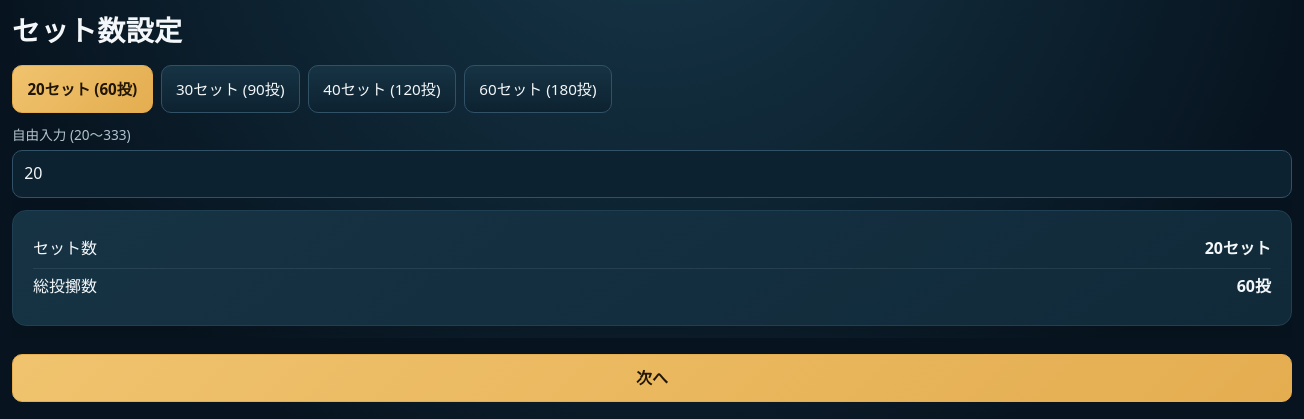
Test case: SetCountPage (トレーニング設定) › プリセットで総投擲数が更新される
What coordinates should you click on to do the following:
click the button "40セット (120投)"
I would click on:
 (382, 89)
Its box is [308,65,456,113].
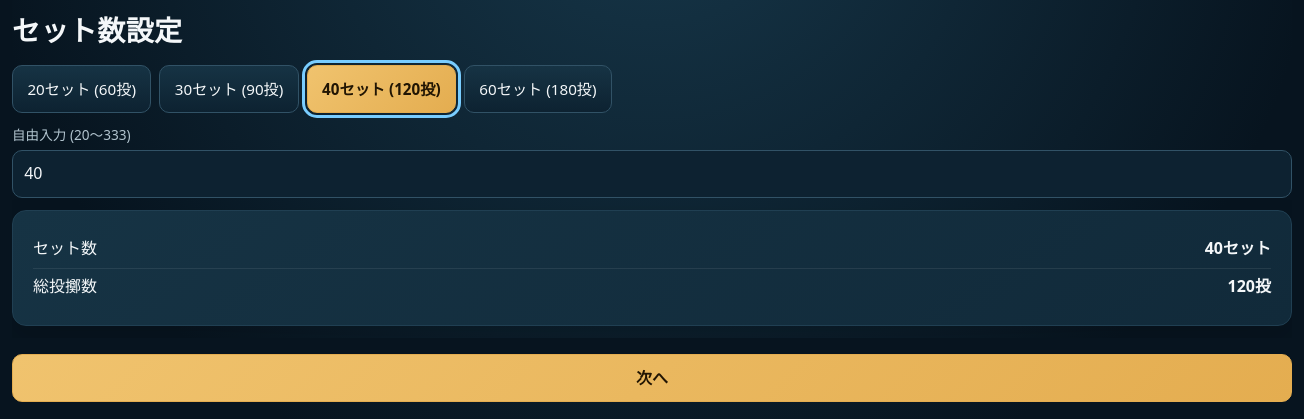
Now the text "120投" is shown, box [1228,274,1271,300]
